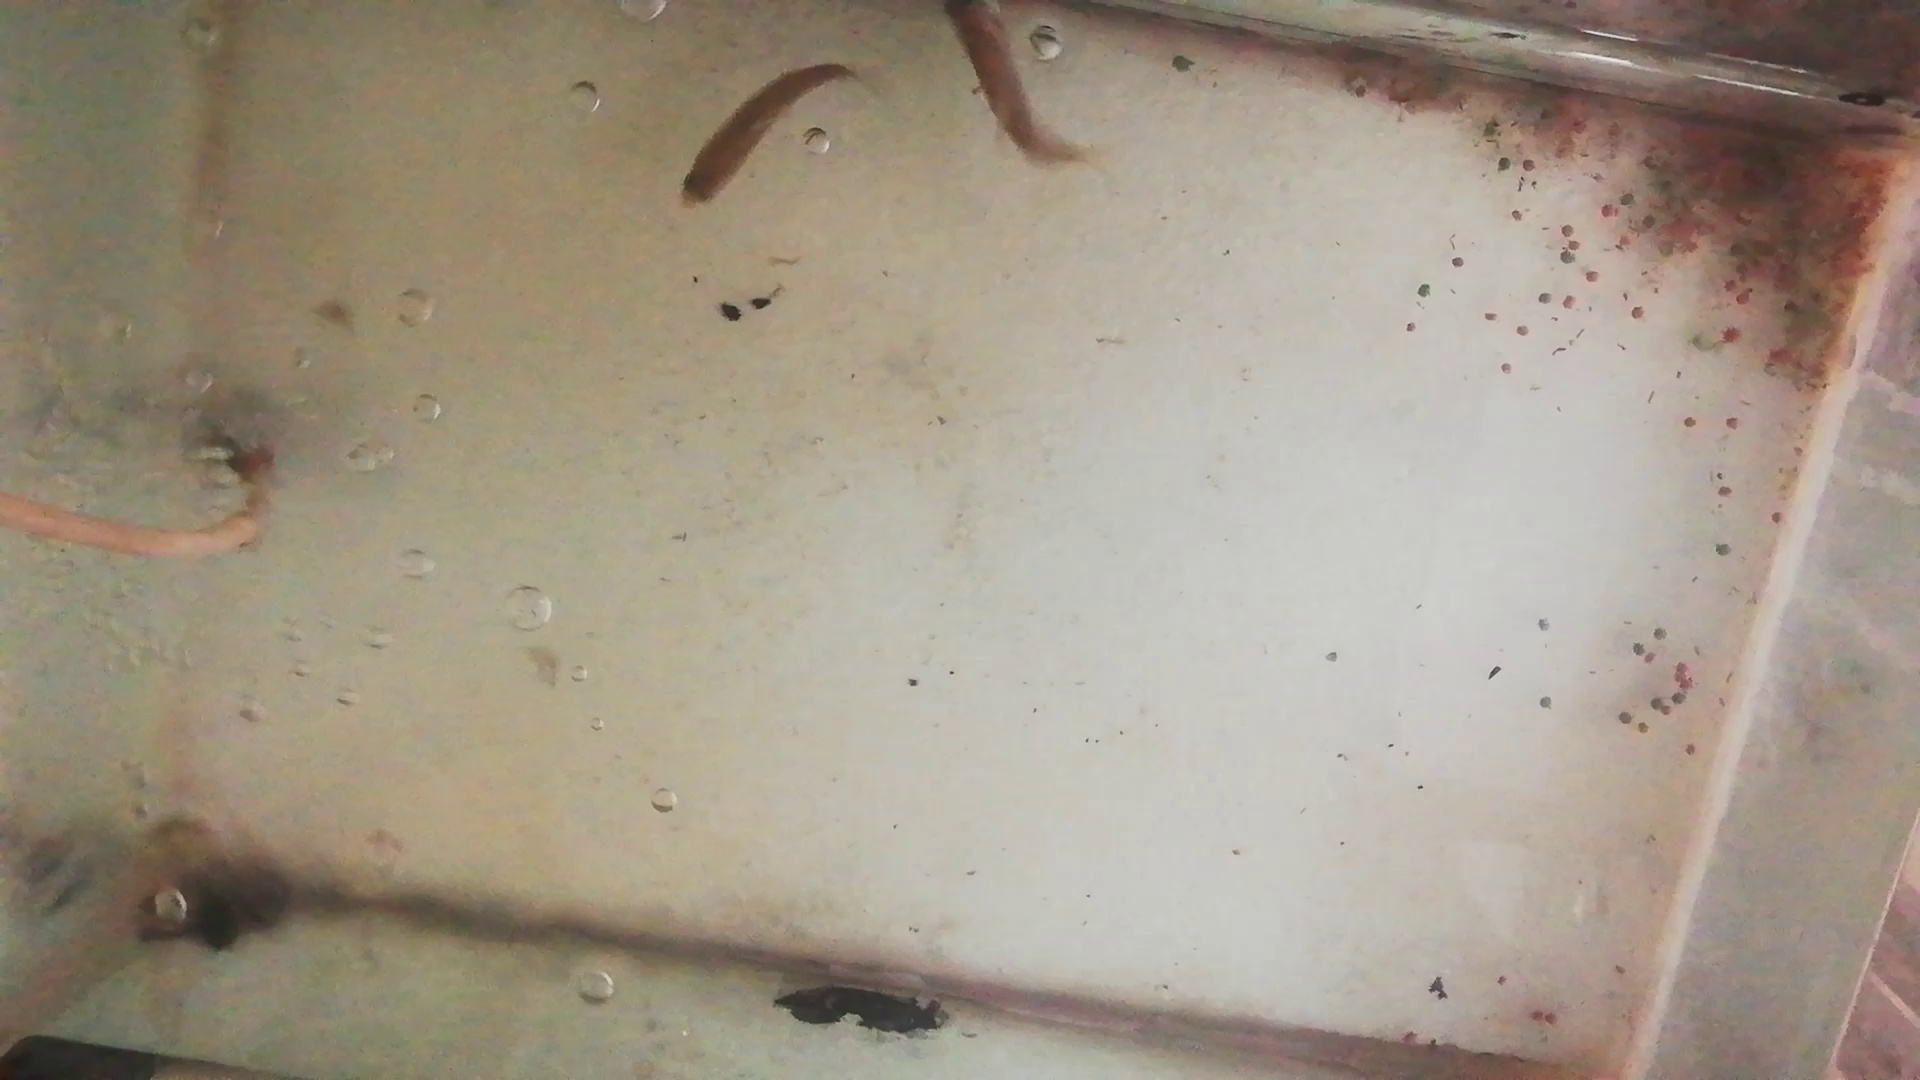fish: (675, 62, 851, 215), (944, 3, 1069, 165)
